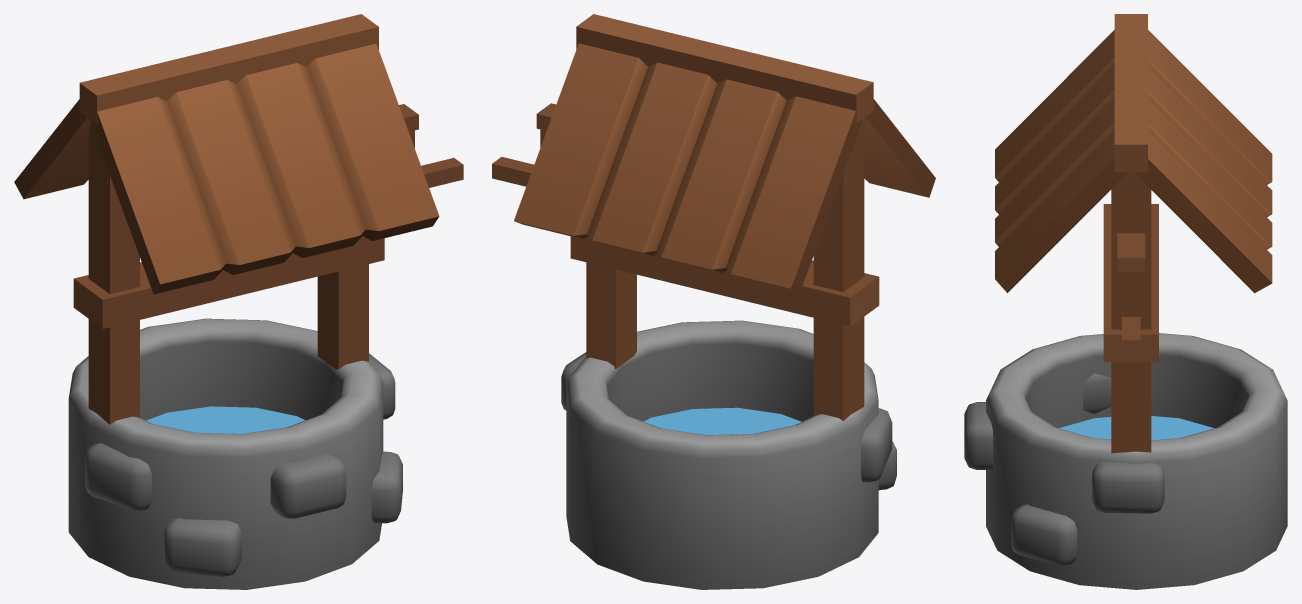
Rendered from Well2.fbx.
3 renders of one model, left to right at view 1: azimuth 30°, elevation 25°; view 2: azimuth 150°, elevation 25°; view 3: azimuth 270°, elevation 25°, orthographic. The views are drawn at different scales.
Visible parts, largest first — view 1: Cylinder; view 2: Cylinder; view 3: Cylinder.
Boxes of the visible parts, box(x1,y1,x2,y2) form: Cylinder: box(14, 14, 463, 589); Cylinder: box(492, 14, 935, 589); Cylinder: box(964, 14, 1287, 589).
Bounding box in the file's own units: 3.7 × 4.38 × 2.87.
